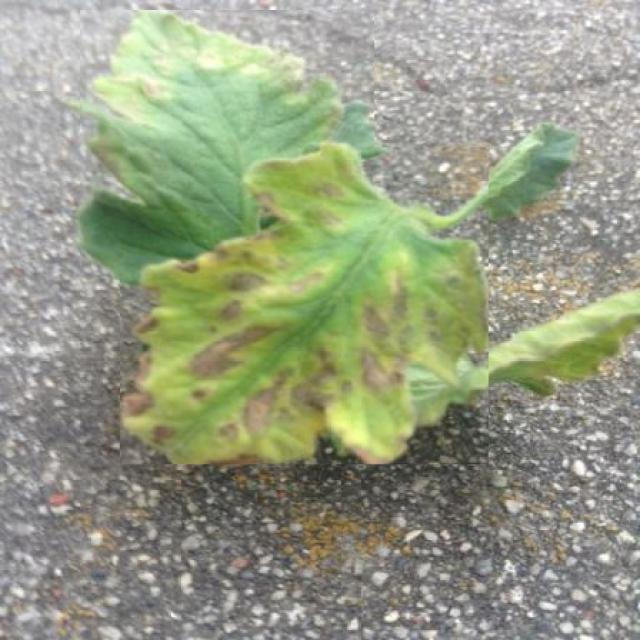Leaf Mold: (120, 147, 488, 464), (81, 10, 375, 279)
